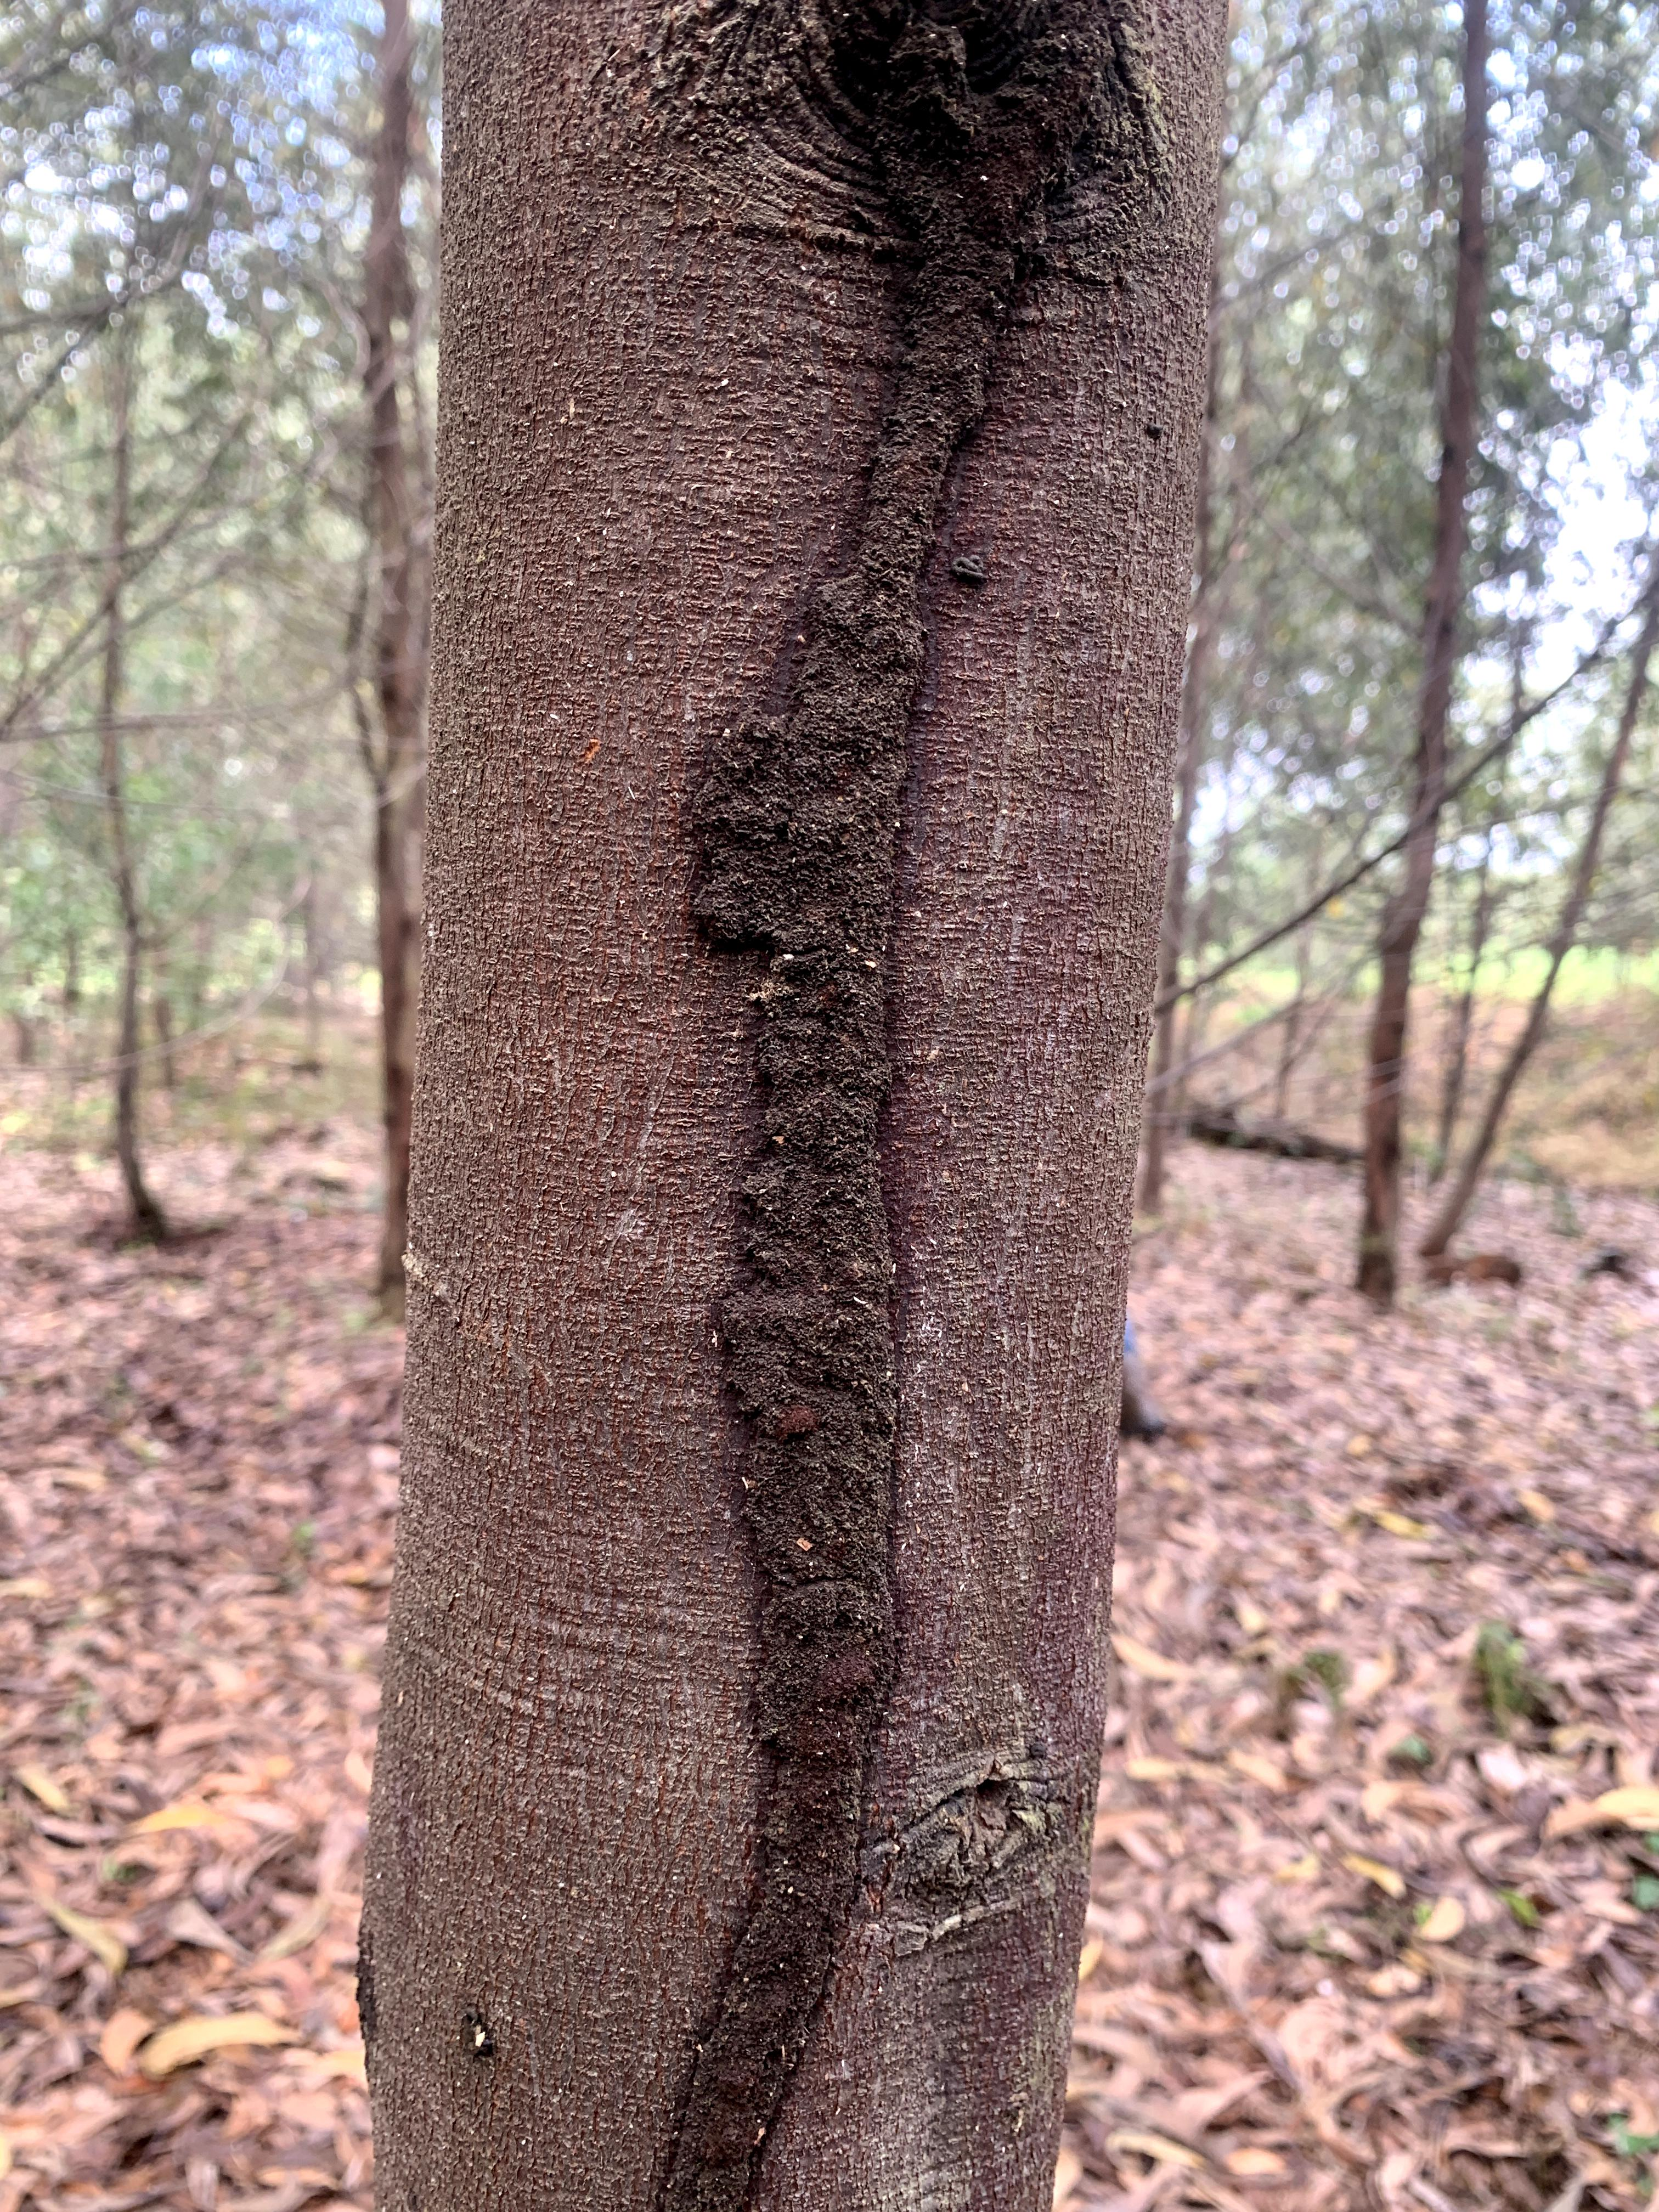Termite - Nest: (638, 17, 1100, 2212)
